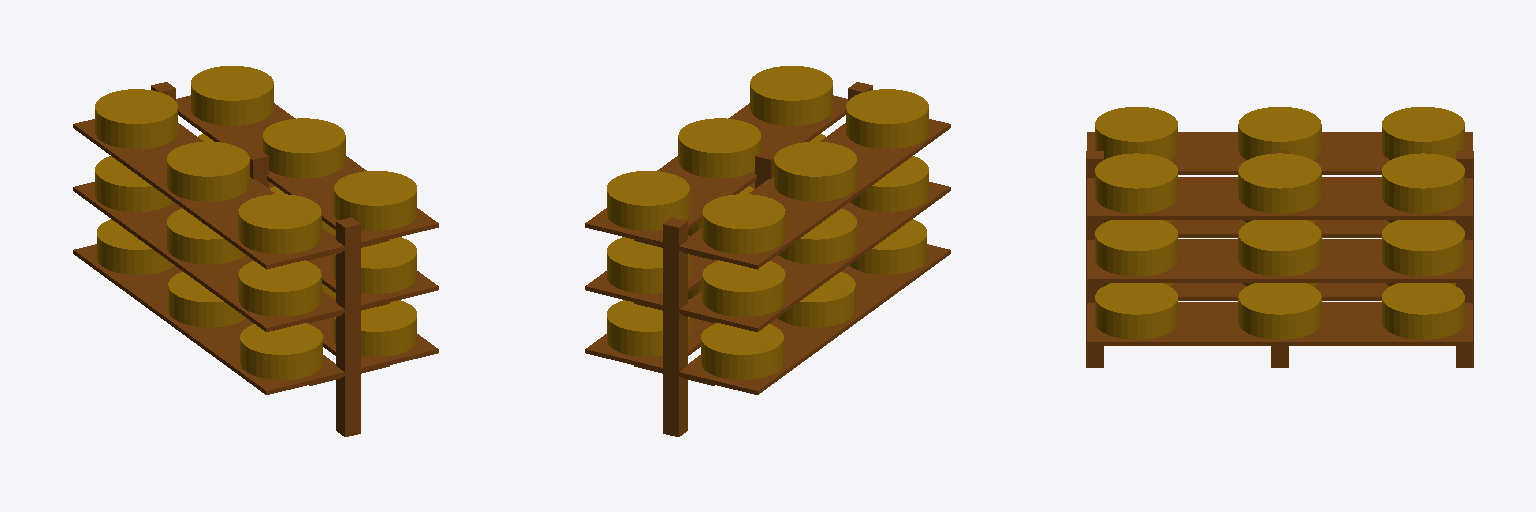
Rendered from droogrekvol.obj.
3 renders of one model, left to right at view 1: azimuth 30°, elevation 25°; view 2: azimuth 150°, elevation 25°; view 3: azimuth 270°, elevation 25°, orthographic.
Parts seen in each view (by area): view 1: Cube.009_Cube.010, Cylinder.016, Cylinder.013, Cylinder.014, Cylinder.015, Cylinder.012, Cylinder.011, Cylinder.009, Cylinder.004, Cylinder.017, Cylinder.010, Cylinder.006 (+3 smaller); view 2: Cube.009_Cube.010, Cylinder.014, Cylinder.011, Cylinder.016, Cylinder.015, Cylinder.012, Cylinder.013, Cylinder.006, Cylinder.001, Cylinder, Cylinder.005, Cylinder.009 (+3 smaller); view 3: Cube.009_Cube.010, Cylinder.012, Cylinder.013, Cylinder.011, Cylinder.002, Cylinder.008, Cylinder.017, Cylinder, Cylinder.010, Cylinder.005, Cylinder.015, Cylinder.016 (+1 smaller).
Part boxes in pixels (bbox=[...]): Cube.009_Cube.010: bbox=[73, 82, 438, 436]; Cylinder.016: bbox=[238, 194, 321, 253]; Cylinder.013: bbox=[191, 66, 273, 125]; Cylinder.014: bbox=[95, 89, 177, 148]; Cylinder.015: bbox=[167, 142, 249, 201]; Cylinder.012: bbox=[263, 118, 345, 178]; Cylinder.011: bbox=[334, 171, 416, 230]; Cylinder.009: bbox=[238, 260, 321, 316]; Cylinder.004: bbox=[240, 323, 322, 379]; Cylinder.017: bbox=[334, 300, 416, 356]; Cylinder.010: bbox=[334, 237, 416, 293]; Cylinder.006: bbox=[95, 156, 173, 211]; Cube.009_Cube.010: bbox=[585, 82, 950, 436]; Cylinder.014: bbox=[702, 194, 785, 253]; Cylinder.011: bbox=[750, 66, 832, 125]; Cylinder.016: bbox=[846, 89, 928, 148]; Cylinder.015: bbox=[774, 142, 856, 201]; Cylinder.012: bbox=[678, 118, 760, 178]; Cylinder.013: bbox=[607, 171, 689, 230]; Cylinder.006: bbox=[702, 260, 785, 316]; Cylinder.001: bbox=[701, 323, 783, 379]; Cylinder: bbox=[607, 300, 689, 356]; Cylinder.005: bbox=[607, 237, 689, 293]; Cylinder.009: bbox=[850, 156, 928, 211]; Cube.009_Cube.010: bbox=[1086, 132, 1473, 367]; Cylinder.012: bbox=[1238, 153, 1321, 213]; Cylinder.013: bbox=[1382, 153, 1464, 213]; Cylinder.011: bbox=[1095, 153, 1177, 213]; Cylinder.002: bbox=[1238, 283, 1321, 339]; Cylinder.008: bbox=[1238, 220, 1321, 276]; Cylinder.017: bbox=[1095, 283, 1177, 339]; Cylinder: bbox=[1382, 283, 1464, 339]; Cylinder.010: bbox=[1095, 220, 1177, 276]; Cylinder.005: bbox=[1382, 220, 1464, 276]; Cylinder.015: bbox=[1238, 107, 1321, 159]; Cylinder.016: bbox=[1095, 107, 1177, 159].
Size of the model in its own units: 4.3 by 5.17 by 8.4.